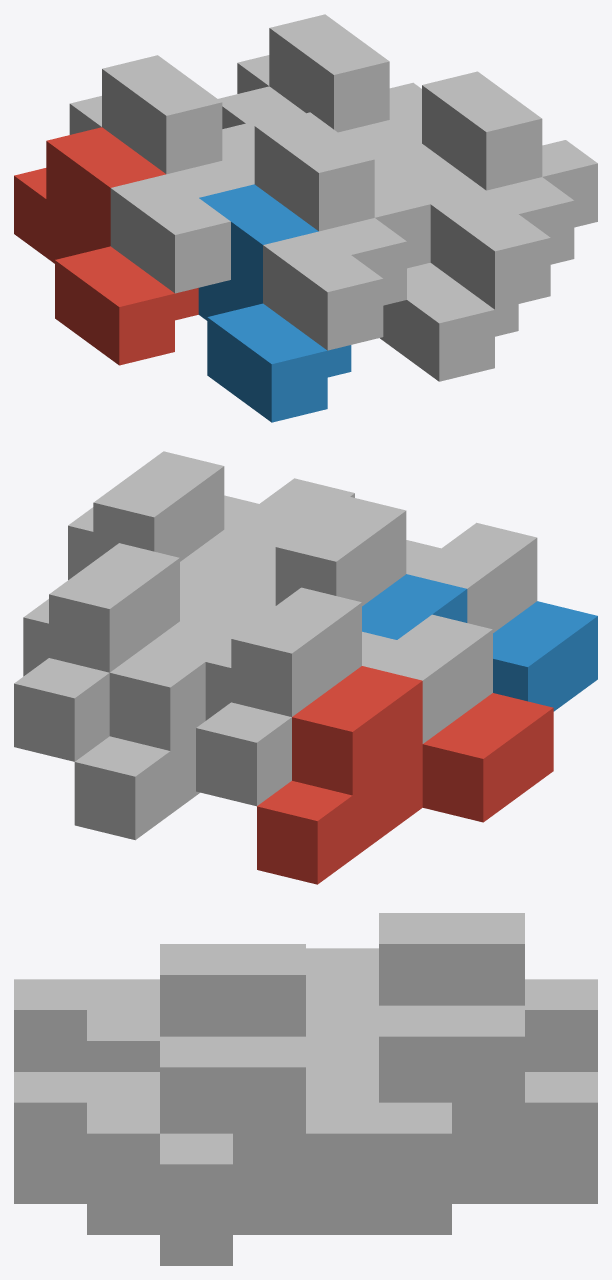
File: tiling.obj
3 views of the same model, one above another, from view 1: azimuth 30°, elevation 25°; view 2: azimuth 150°, elevation 25°; view 3: azimuth 270°, elevation 25° (orthographic). The views are drawn at different scales.
Visible parts, largest first — view 1: copy_1_domain_8, copy_1_domain_4, copy_1_domain_3, copy_1_domain_1, copy_1_domain_2, copy_1_domain_7, copy_1_domain_6, copy_1_domain_5; view 2: copy_1_domain_1, copy_1_domain_3, copy_1_domain_7, copy_1_domain_5, copy_1_domain_4, copy_1_domain_8, copy_1_domain_2, copy_1_domain_6; view 3: copy_1_domain_8, copy_1_domain_7, copy_1_domain_4, copy_1_domain_3, copy_1_domain_6, copy_1_domain_5.
Part boxes in pixels (bbox=[...]): copy_1_domain_8: bbox=[390, 71, 597, 309]; copy_1_domain_4: bbox=[222, 112, 430, 350]; copy_1_domain_3: bbox=[69, 55, 254, 293]; copy_1_domain_1: bbox=[14, 127, 198, 365]; copy_1_domain_2: bbox=[198, 184, 351, 422]; copy_1_domain_7: bbox=[237, 14, 421, 186]; copy_1_domain_6: bbox=[370, 143, 518, 381]; copy_1_domain_5: bbox=[218, 86, 305, 129]; copy_1_domain_1: bbox=[257, 666, 553, 884]; copy_1_domain_3: bbox=[196, 587, 492, 806]; copy_1_domain_7: bbox=[14, 543, 275, 761]; copy_1_domain_5: bbox=[74, 621, 235, 840]; copy_1_domain_4: bbox=[250, 496, 537, 632]; copy_1_domain_8: bbox=[68, 451, 354, 579]; copy_1_domain_2: bbox=[362, 574, 597, 711]; copy_1_domain_6: bbox=[180, 529, 279, 595]; copy_1_domain_8: bbox=[14, 1036, 378, 1230]; copy_1_domain_7: bbox=[306, 1005, 597, 1199]; copy_1_domain_4: bbox=[14, 944, 378, 1071]; copy_1_domain_3: bbox=[306, 913, 597, 1071]; copy_1_domain_6: bbox=[14, 1169, 378, 1265]; copy_1_domain_5: bbox=[379, 1169, 597, 1234].
Bounding box in the file's own units: 8 × 3 × 8.
